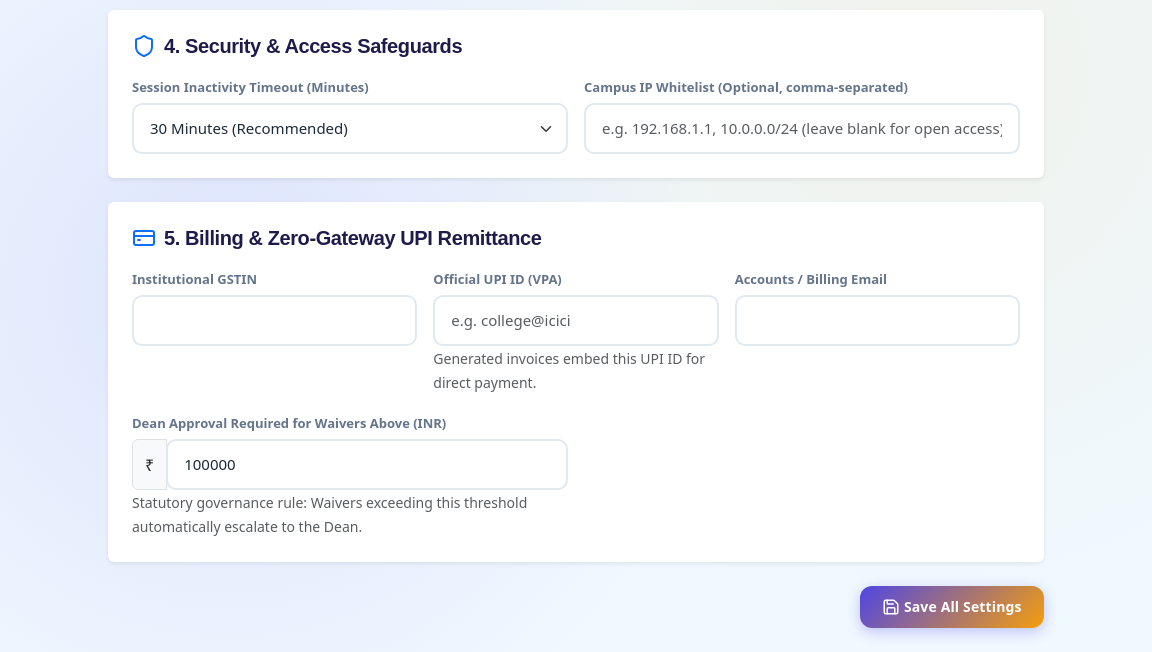
Test: InstitutionSettingsPage Component Tests › displays error alert when save request fails
(page scrolled)
Click the button "Save All Settings": coordinates (952, 607) [860,586,1044,628]
(page scrolled)
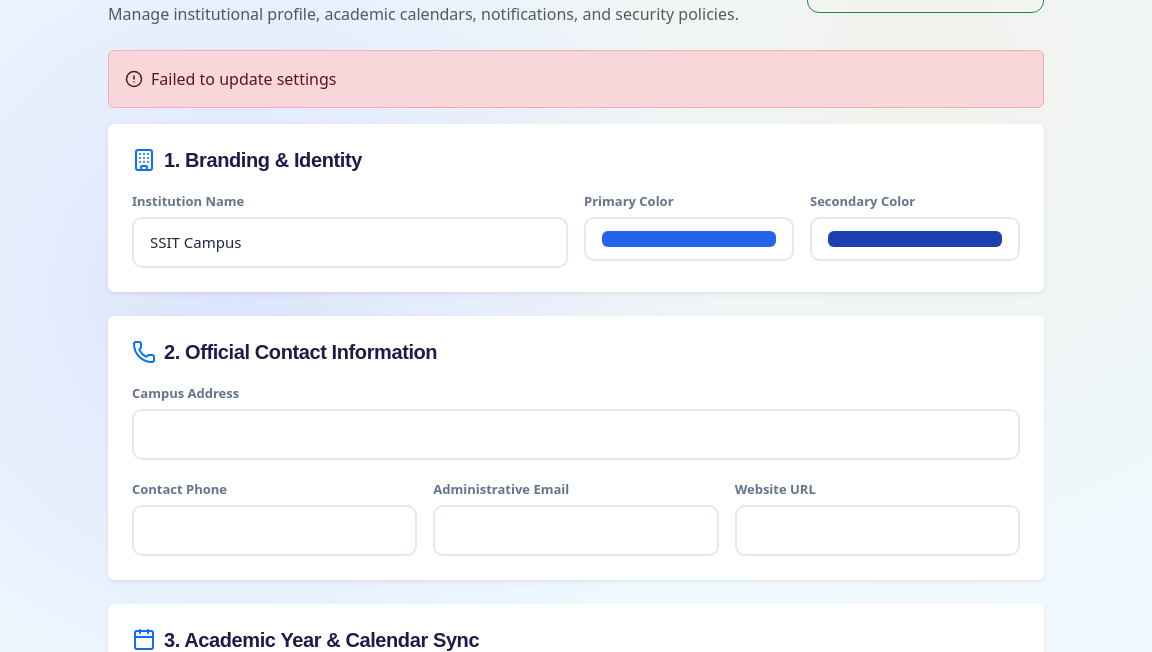
Check: the text "Failed to update settings" is shown, box [108,50,1044,108]
